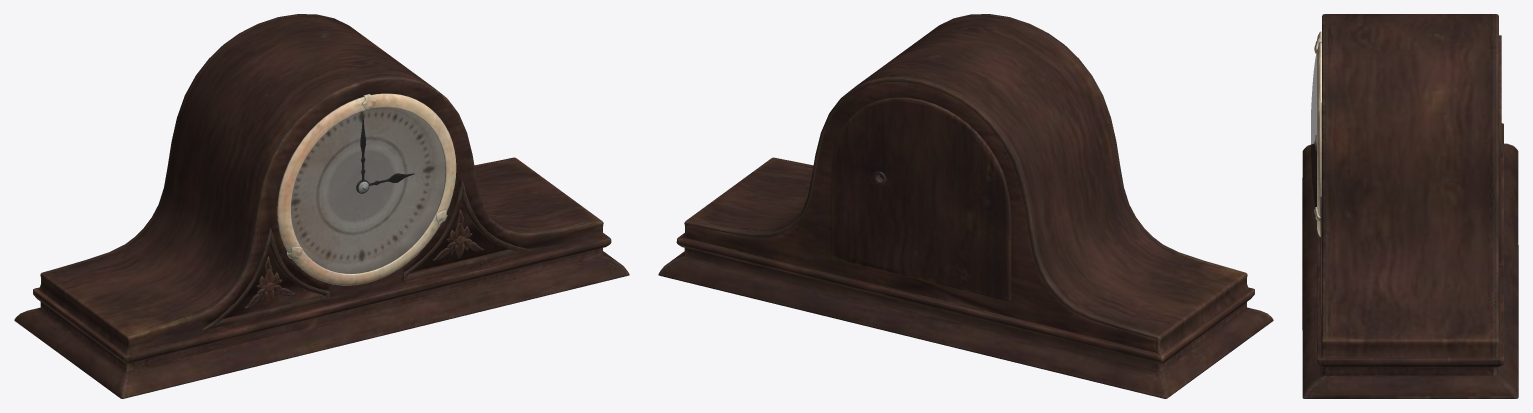
The model's file is mantel_clock_01.glb.
The picture shows the model from 3 angles, left to right: view 1: azimuth 30°, elevation 25°; view 2: azimuth 150°, elevation 25°; view 3: azimuth 270°, elevation 25°; orthographic projection.
Parts seen in each view (by area): view 1: mantel_clock_01, mantel_clock_01_glass; view 2: mantel_clock_01; view 3: mantel_clock_01, mantel_clock_01_glass.
Part boxes in pixels (box(x1,y1,x2,y2)): mantel_clock_01: box(14, 14, 629, 398); mantel_clock_01_glass: box(291, 108, 445, 273); mantel_clock_01: box(658, 14, 1273, 398); mantel_clock_01: box(1302, 14, 1518, 398); mantel_clock_01_glass: box(1311, 53, 1316, 207).
Bounding box in the file's own units: 0.3423 × 0.1605 × 0.1262.
Materials: 2 (2 with a texture image).
